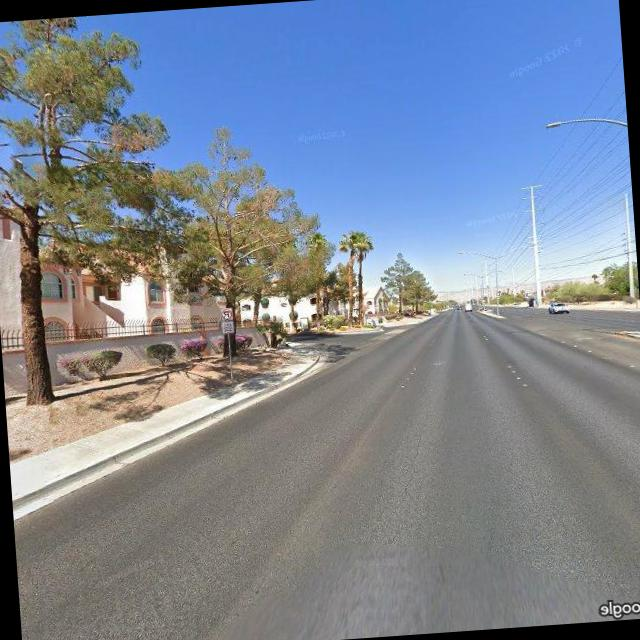pothole: (396, 423, 432, 507)
